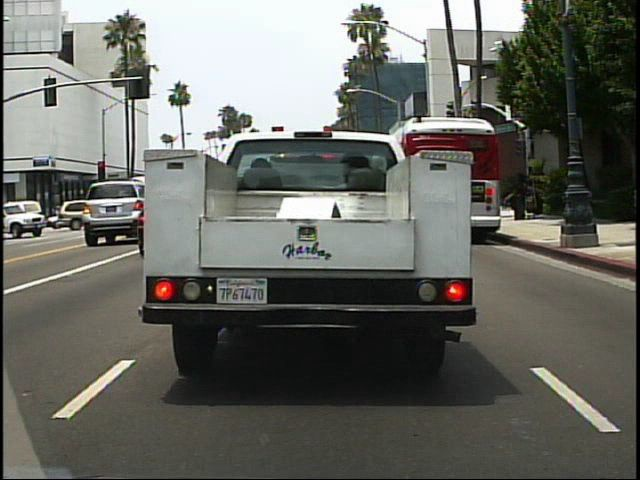person: (509, 170, 533, 222), (18, 199, 37, 234)
